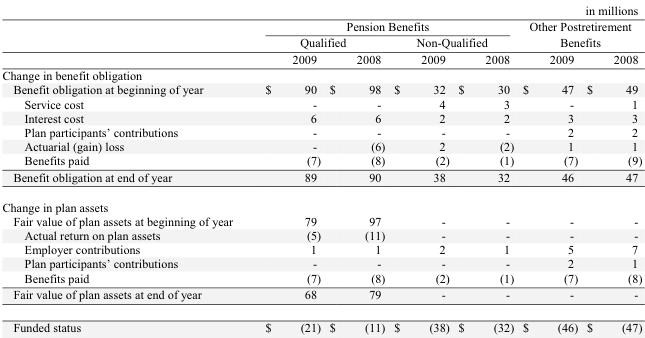table: (1, 1, 641, 335)
table column: (1, 1, 248, 335), (248, 1, 324, 335), (388, 1, 453, 335), (324, 1, 388, 335), (453, 1, 517, 335), (517, 1, 580, 335), (580, 1, 641, 335)
table column header: (1, 1, 641, 66)
table projected row header: (1, 191, 641, 213), (1, 66, 641, 82)
table row: (1, 285, 641, 310), (1, 310, 641, 335), (1, 167, 641, 191), (1, 191, 641, 213), (1, 33, 641, 50), (1, 1, 641, 17), (1, 17, 641, 33), (1, 50, 641, 66), (1, 66, 641, 82), (1, 152, 641, 167), (1, 213, 641, 228), (1, 270, 641, 285), (1, 82, 641, 96), (1, 96, 641, 110), (1, 110, 641, 124), (1, 124, 641, 138), (1, 138, 641, 152), (1, 228, 641, 242), (1, 242, 641, 256), (1, 256, 641, 270)
table spanning cell: (248, 1, 517, 33), (517, 17, 641, 50), (248, 33, 388, 50), (388, 33, 517, 50)
